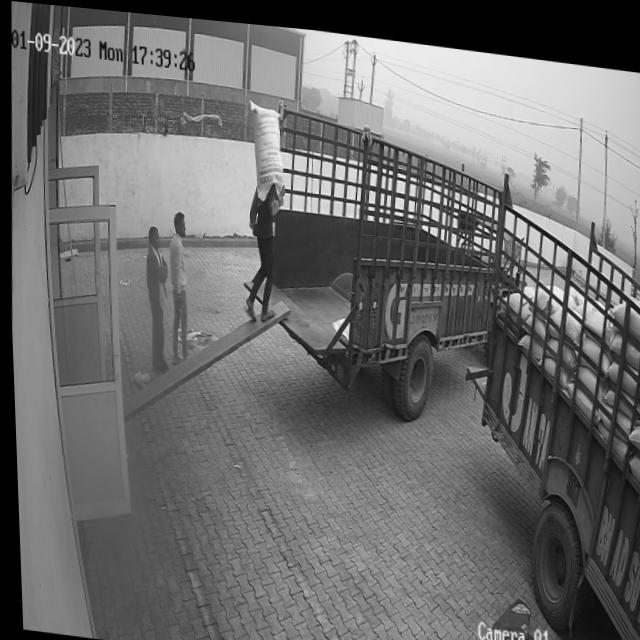sack: (245, 94, 284, 197)
